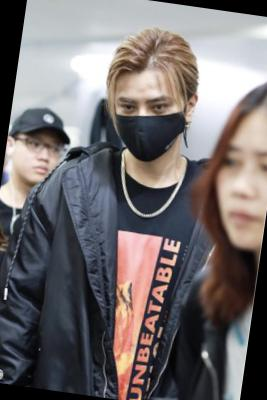with_mask: (108, 87, 190, 162)
without_mask: (206, 140, 267, 251), (10, 130, 65, 187)
